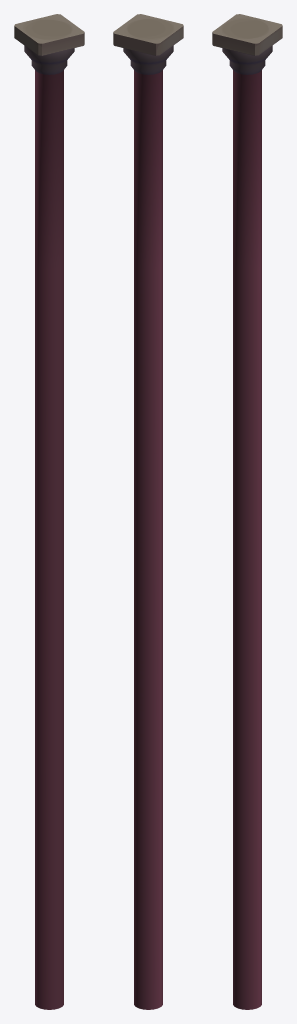
Rendered from Pillar_02.fbx.
3 views of the same model, side by side, from view 1: azimuth 30°, elevation 25°; view 2: azimuth 150°, elevation 25°; view 3: azimuth 330°, elevation 25° (orthographic).
Parts seen in each view (by area): view 1: Cylinder003; view 2: Cylinder003; view 3: Cylinder003.
Boxes of the visible parts, left/top/right/bottom form: Cylinder003: left=14, top=14, right=84, bottom=1009; Cylinder003: left=113, top=14, right=183, bottom=1009; Cylinder003: left=212, top=14, right=282, bottom=1009.
Size of the model in its own units: 39.37 by 787 by 39.37.
